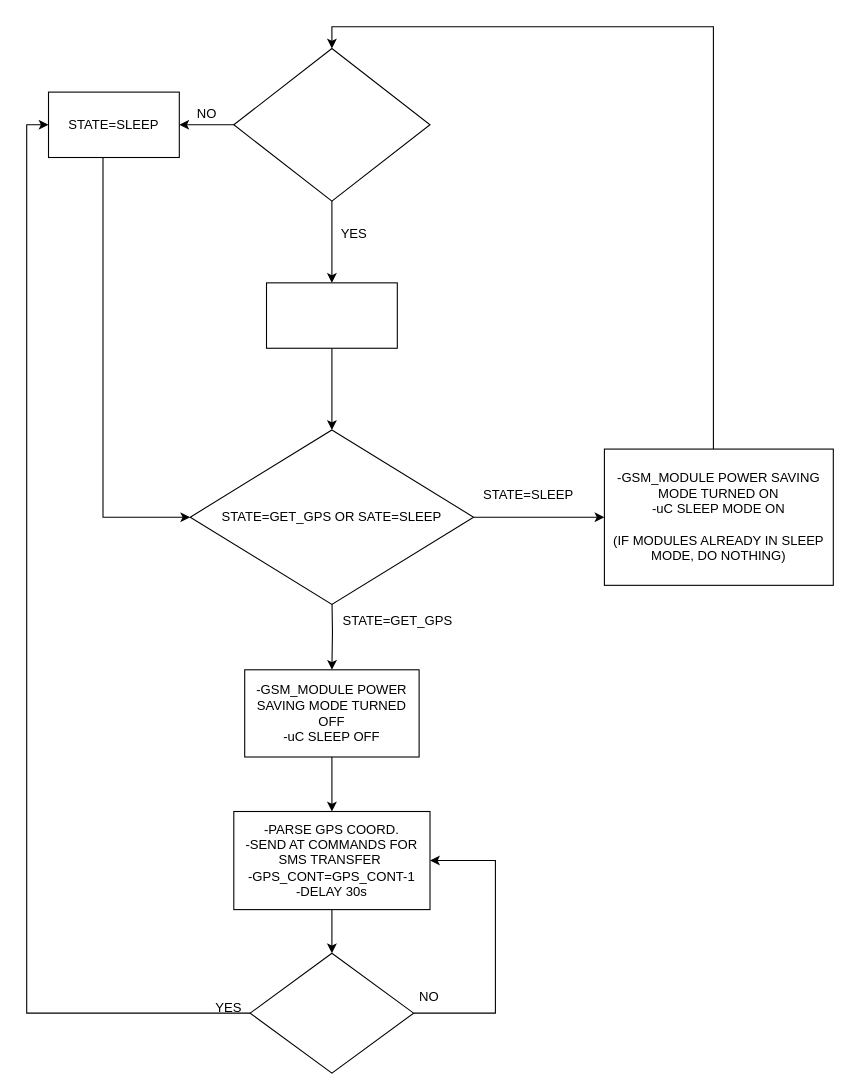
The diagram is 852 pixels wide and 1092 high, and some of its shapes have lost their labels. The centre of each missing label's shape, as x and y in pixels:
-STATE=GET_GPS -GPS_CNT=10: the point at 331,315
GPS_CONT==0?: the point at 331,1012
MOTION_DET==TRUE?: the point at 331,124
